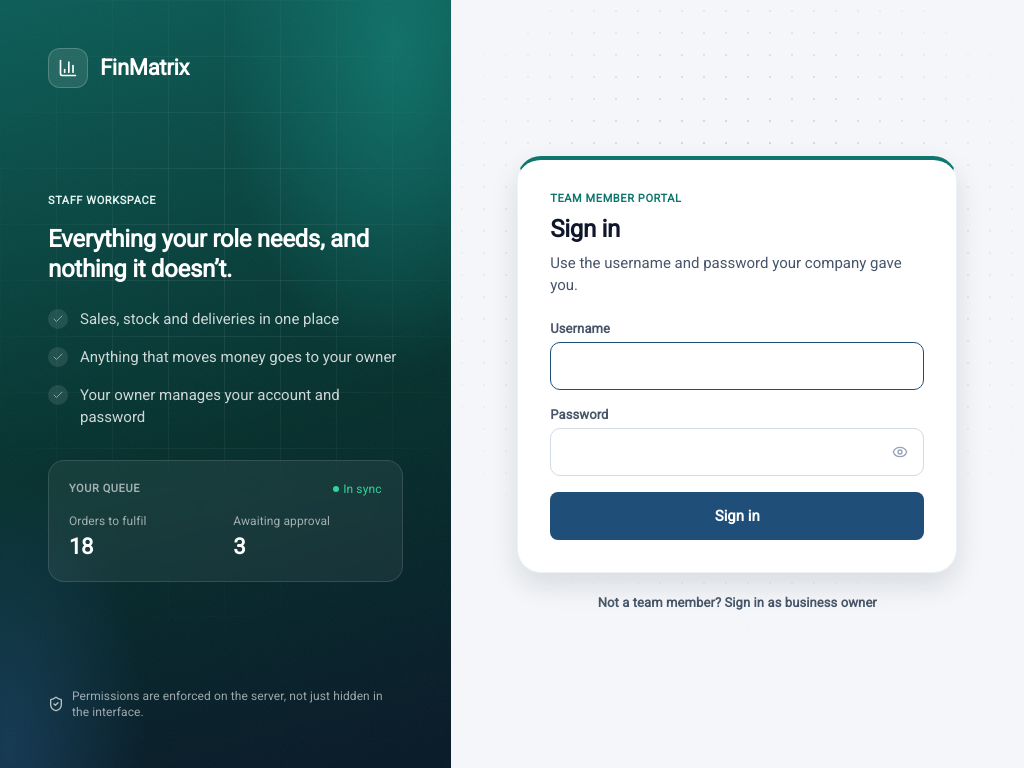
portal enforcement on sign-in › offers no web door to a rider
Type "rider.one" into the field labelled "Username".
click(737, 366); type("rider.one")  # box [550,342,924,390]
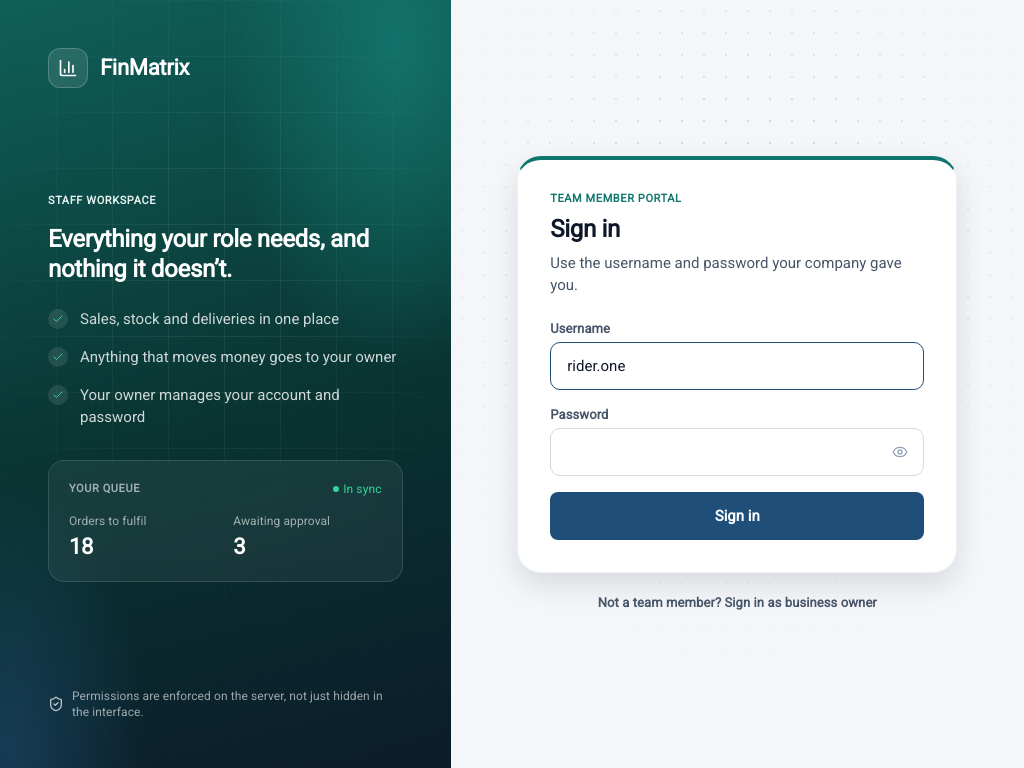
Type "pw" into the password field labelled "Password".
click(737, 452); type("pw")  # box [550,428,924,476]
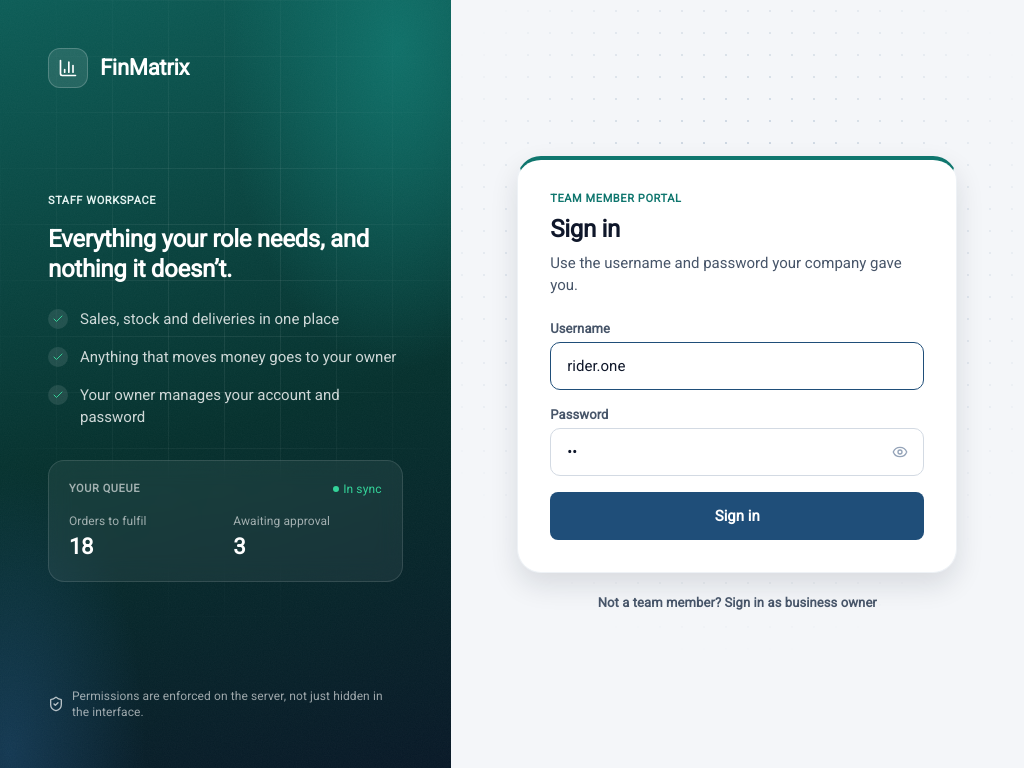
Click the button "Sign in".
click(737, 516)  # box [550,492,924,540]
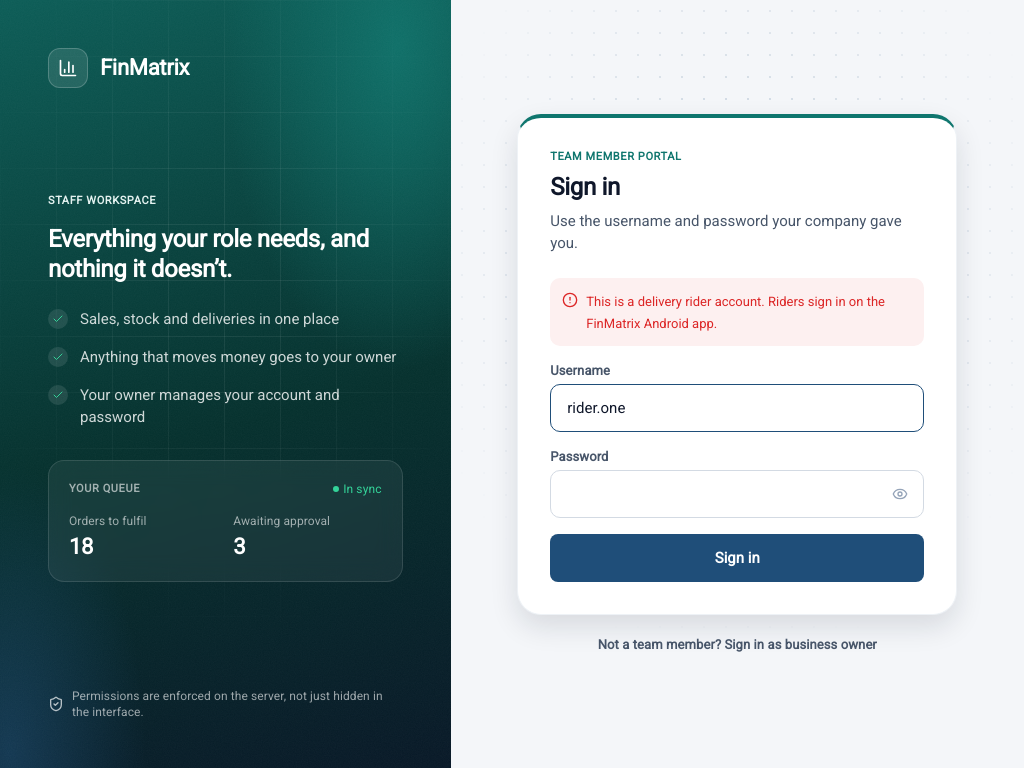
Now the message shows "Android app", box [586,294,885,331]
